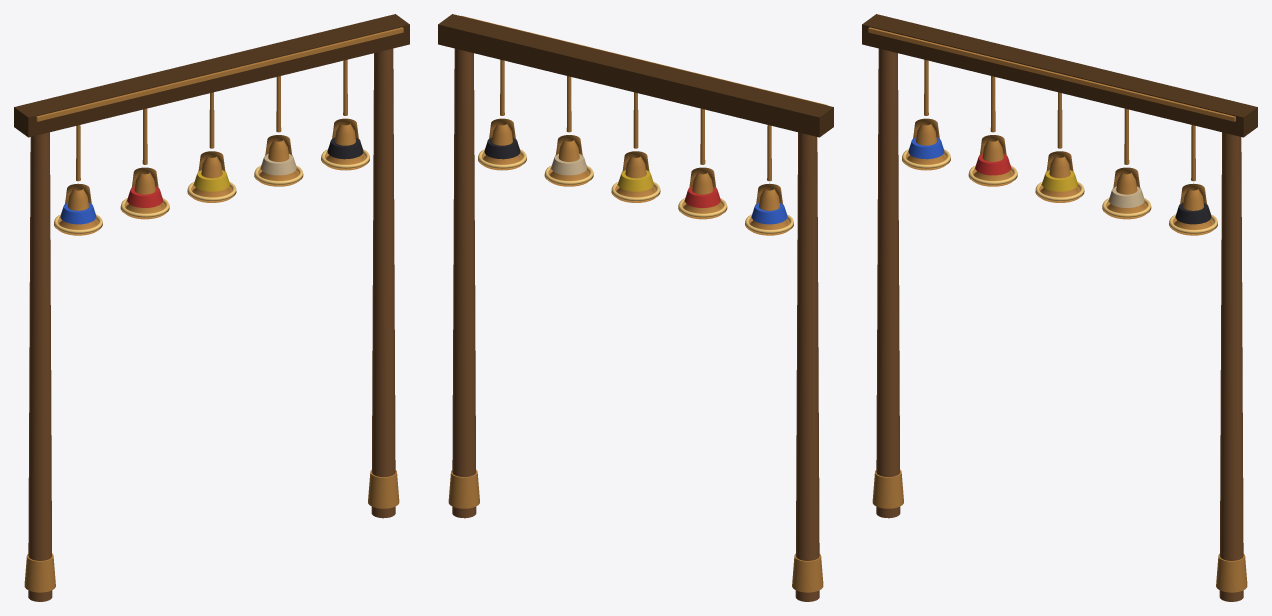
The model's file is mia-bell_rack.glb.
3 renders of one model, left to right at view 1: azimuth 30°, elevation 25°; view 2: azimuth 150°, elevation 25°; view 3: azimuth 330°, elevation 25°, orthographic.
Visible parts, largest first — view 1: Body_oak, Body_wood, Body_brass, Body_trim, Body_flag-blue, Body_iron, Body_ivory, Body_flag-red, Body_flag-yellow; view 2: Body_oak, Body_wood, Body_brass, Body_trim, Body_flag-blue, Body_iron, Body_ivory, Body_flag-red, Body_flag-yellow; view 3: Body_oak, Body_wood, Body_brass, Body_trim, Body_iron, Body_flag-blue, Body_flag-red, Body_flag-yellow, Body_ivory.
Boxes of the visible parts, bbox=[...] form: Body_oak: bbox=[28, 48, 395, 601]; Body_wood: bbox=[14, 14, 409, 137]; Body_brass: bbox=[24, 27, 403, 592]; Body_trim: bbox=[54, 149, 369, 233]; Body_flag-blue: bbox=[60, 202, 96, 224]; Body_iron: bbox=[327, 137, 363, 159]; Body_ivory: bbox=[261, 154, 296, 175]; Body_flag-red: bbox=[127, 186, 162, 207]; Body_flag-yellow: bbox=[194, 170, 229, 191]; Body_oak: bbox=[452, 48, 819, 601]; Body_wood: bbox=[438, 14, 833, 137]; Body_brass: bbox=[448, 15, 827, 592]; Body_trim: bbox=[478, 149, 793, 233]; Body_flag-blue: bbox=[751, 202, 787, 224]; Body_iron: bbox=[484, 137, 520, 159]; Body_ivory: bbox=[551, 154, 586, 175]; Body_flag-red: bbox=[685, 186, 720, 207]; Body_flag-yellow: bbox=[618, 170, 653, 191]; Body_oak: bbox=[876, 48, 1243, 601]; Body_wood: bbox=[862, 14, 1257, 137]; Body_brass: bbox=[868, 27, 1247, 592]; Body_trim: bbox=[902, 149, 1217, 233]; Body_iron: bbox=[1175, 202, 1211, 224]; Body_flag-blue: bbox=[908, 137, 944, 159]; Body_flag-red: bbox=[975, 154, 1010, 175]; Body_flag-yellow: bbox=[1042, 170, 1077, 191]; Body_ivory: bbox=[1109, 186, 1144, 207].
Size of the model in its own units: 2 by 2.45 by 0.224.
